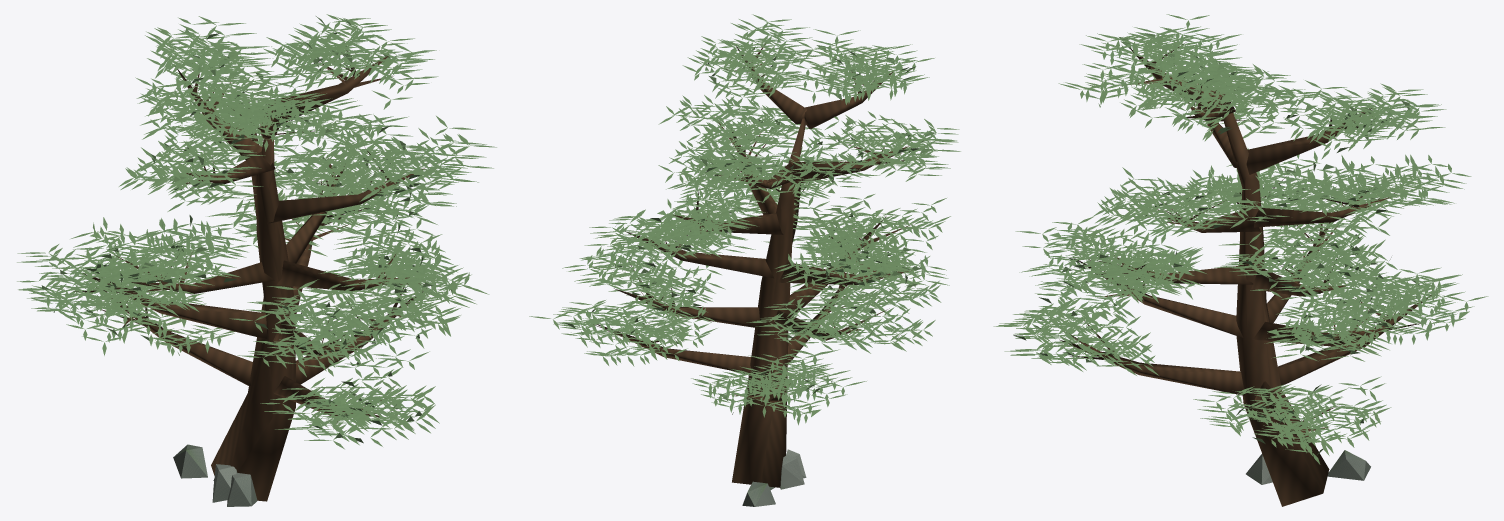
Rendered from v01_pine_1_lod1.fbx.
The picture shows the model from 3 angles, left to right: view 1: azimuth 30°, elevation 25°; view 2: azimuth 150°, elevation 25°; view 3: azimuth 270°, elevation 25°; orthographic projection. The views are drawn at different scales.
Parts seen in each view (by area): view 1: v01_pine_1.004; view 2: v01_pine_1.004; view 3: v01_pine_1.004.
Boxes of the visible parts, x1,y1,x2,y2 form: v01_pine_1.004: (17, 14, 496, 506); v01_pine_1.004: (529, 14, 960, 506); v01_pine_1.004: (993, 14, 1488, 506).
Bounding box in the file's own units: 48309 × 46722 × 48183.
